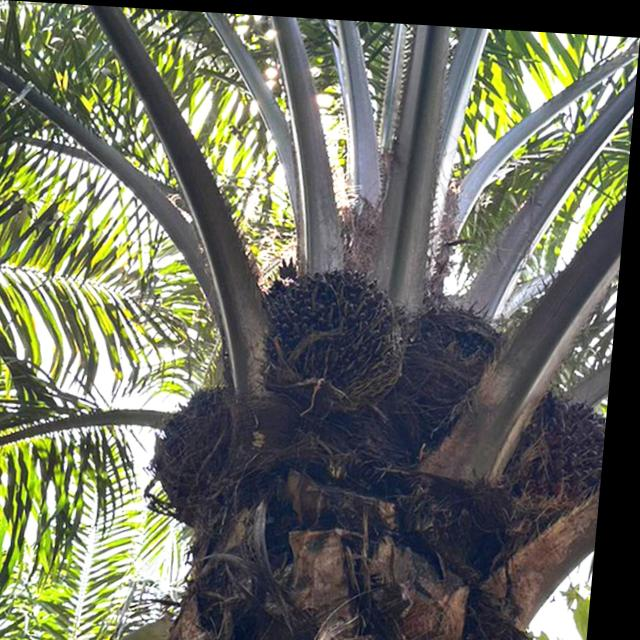unripe: (250, 247, 420, 427), (138, 369, 273, 543), (494, 370, 616, 529), (384, 290, 520, 432)
